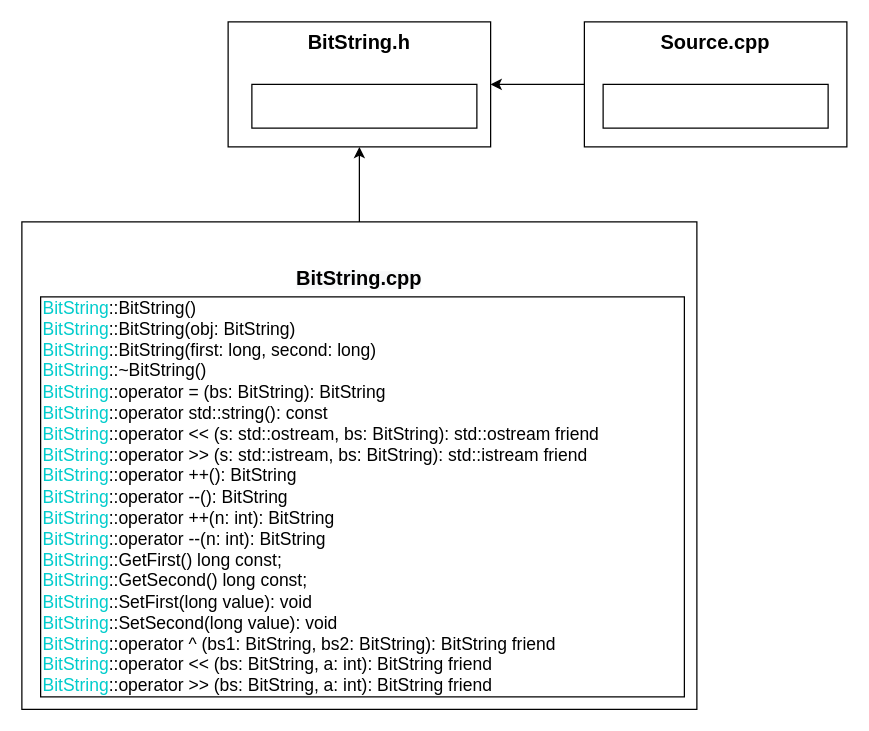
This 869x731 diagram has some shape labels left out. Here are the shapes that lost their labels. From the top down, the centre of each, then its label:
At point (364, 105): "class BitString".
At point (715, 105): "main ( )".
